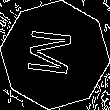M_E: (27, 29, 83, 81)
